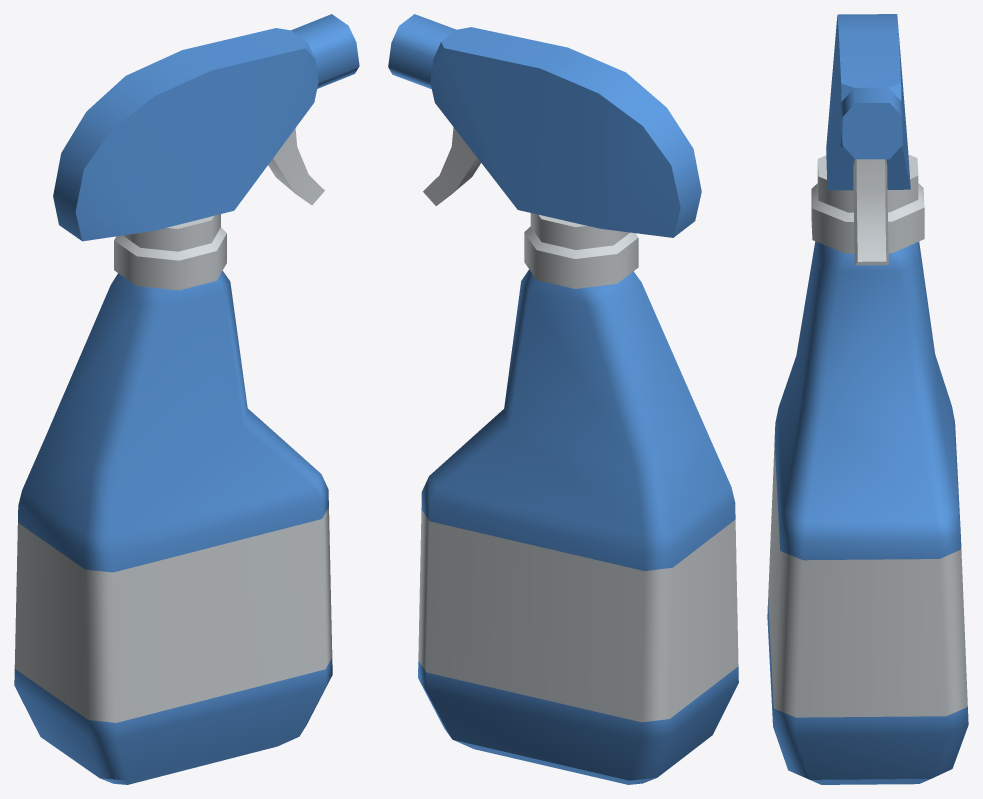
The model's file is bottle_01.fbx.
3 renders of one model, left to right at view 1: azimuth 30°, elevation 25°; view 2: azimuth 150°, elevation 25°; view 3: azimuth 270°, elevation 25°, orthographic. The views are drawn at different scales.
Parts seen in each view (by area): view 1: Base37_1__M_Cnsw_58_FloorSet_Obj_Bottle; view 2: Base37_1__M_Cnsw_58_FloorSet_Obj_Bottle; view 3: Base37_1__M_Cnsw_58_FloorSet_Obj_Bottle.
Boxes of the visible parts, box(x1,y1,x2,y2) form: Base37_1__M_Cnsw_58_FloorSet_Obj_Bottle: box(14, 14, 359, 784); Base37_1__M_Cnsw_58_FloorSet_Obj_Bottle: box(388, 14, 738, 784); Base37_1__M_Cnsw_58_FloorSet_Obj_Bottle: box(767, 14, 968, 784).
Size of the model in its own units: 3491 by 7584 by 1908.
